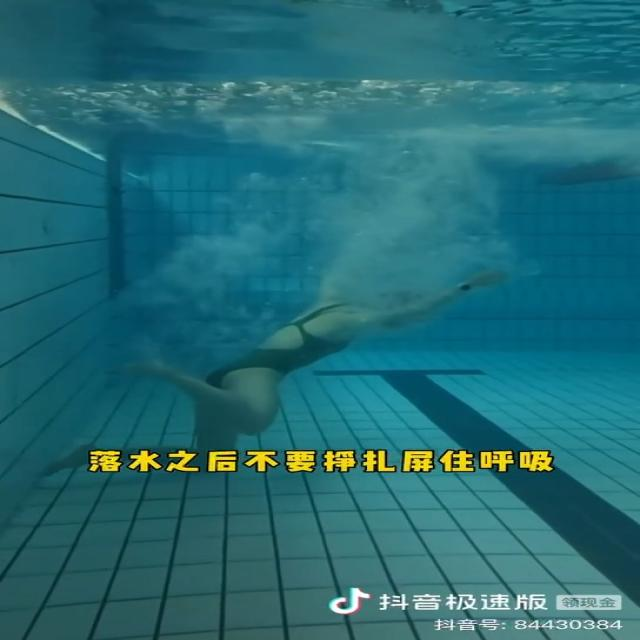Drowning: (42, 270, 509, 474)
